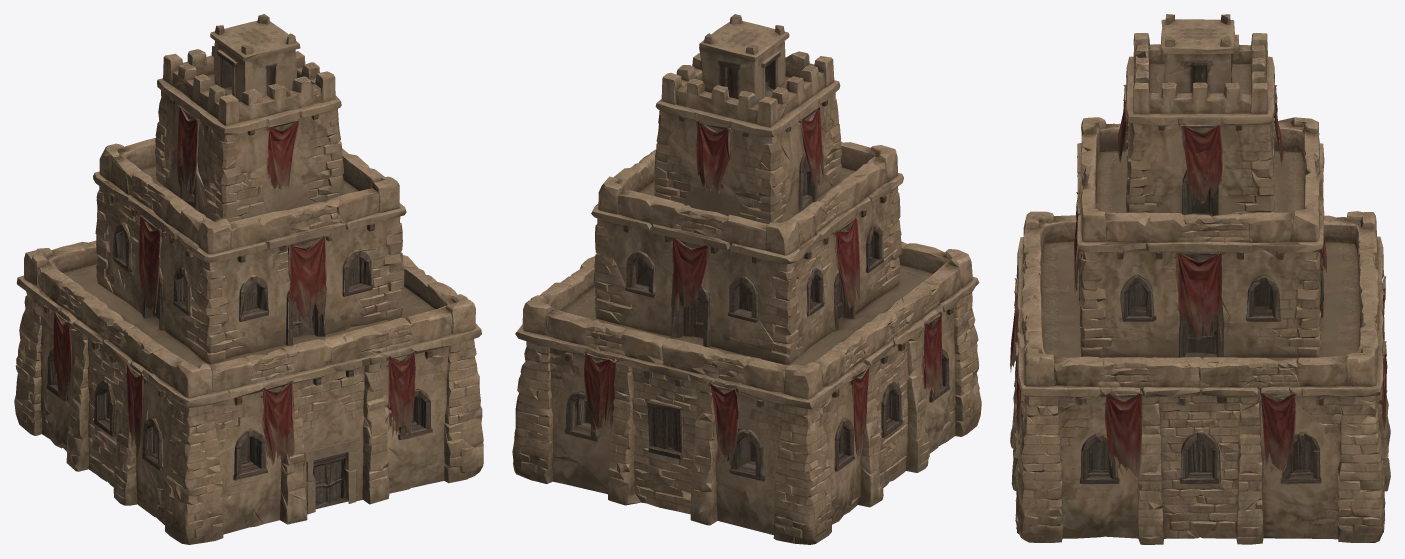
Rendered from jedhatower.glb.
The picture shows the model from 3 angles, left to right: view 1: azimuth 30°, elevation 25°; view 2: azimuth 150°, elevation 25°; view 3: azimuth 270°, elevation 25°; orthographic projection. The views are drawn at different scales.
Visible parts, largest first — view 1: jedhatower-centred; view 2: jedhatower-centred; view 3: jedhatower-centred.
Boxes of the visible parts, left/top/right/bottom form: jedhatower-centred: left=14, top=14, right=483, bottom=544; jedhatower-centred: left=512, top=14, right=981, bottom=544; jedhatower-centred: left=1010, top=14, right=1390, bottom=544.
Bounding box in the file's own units: 17.15 × 22 × 17.19.
1 material, 1 textured.
